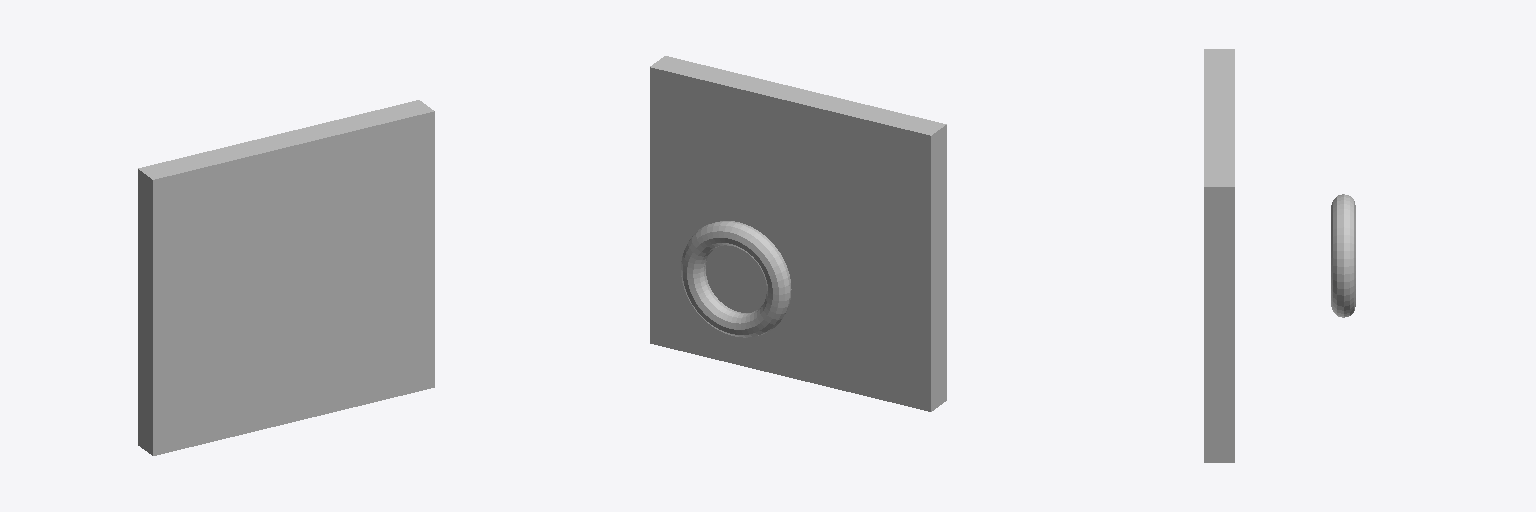
Rendered from torus_with_backdrop.obj.
3 renders of one model, left to right at view 1: azimuth 30°, elevation 25°; view 2: azimuth 150°, elevation 25°; view 3: azimuth 270°, elevation 25°, orthographic.
Parts seen in each view (by area): view 1: Cube_Cube.001; view 2: Cube_Cube.001, Torus; view 3: Cube_Cube.001, Torus.
Part boxes in pixels (x1,y1,x2,y2): Cube_Cube.001: (138,100,434,455); Cube_Cube.001: (650,56,946,411); Torus: (681,221,791,337); Cube_Cube.001: (1204,49,1234,462); Torus: (1331,194,1355,317).
Bounding box in the file's own units: 6.56 × 6.15 × 3.06.